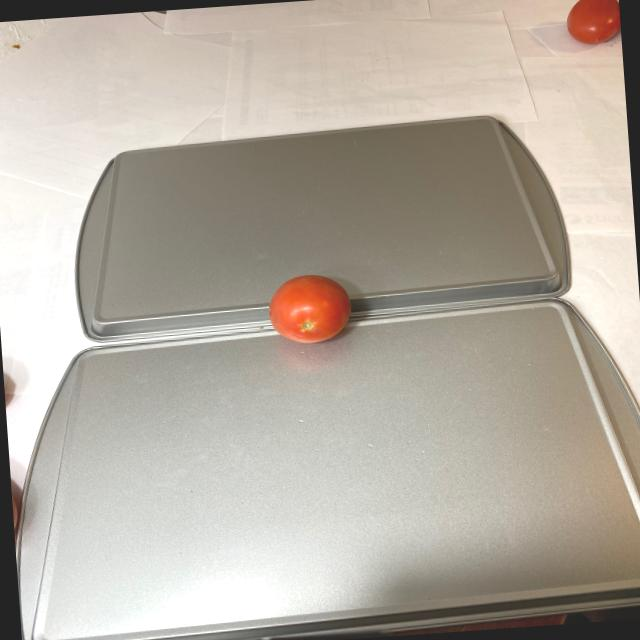tomato: (260, 268, 360, 346), (558, 0, 620, 55)
